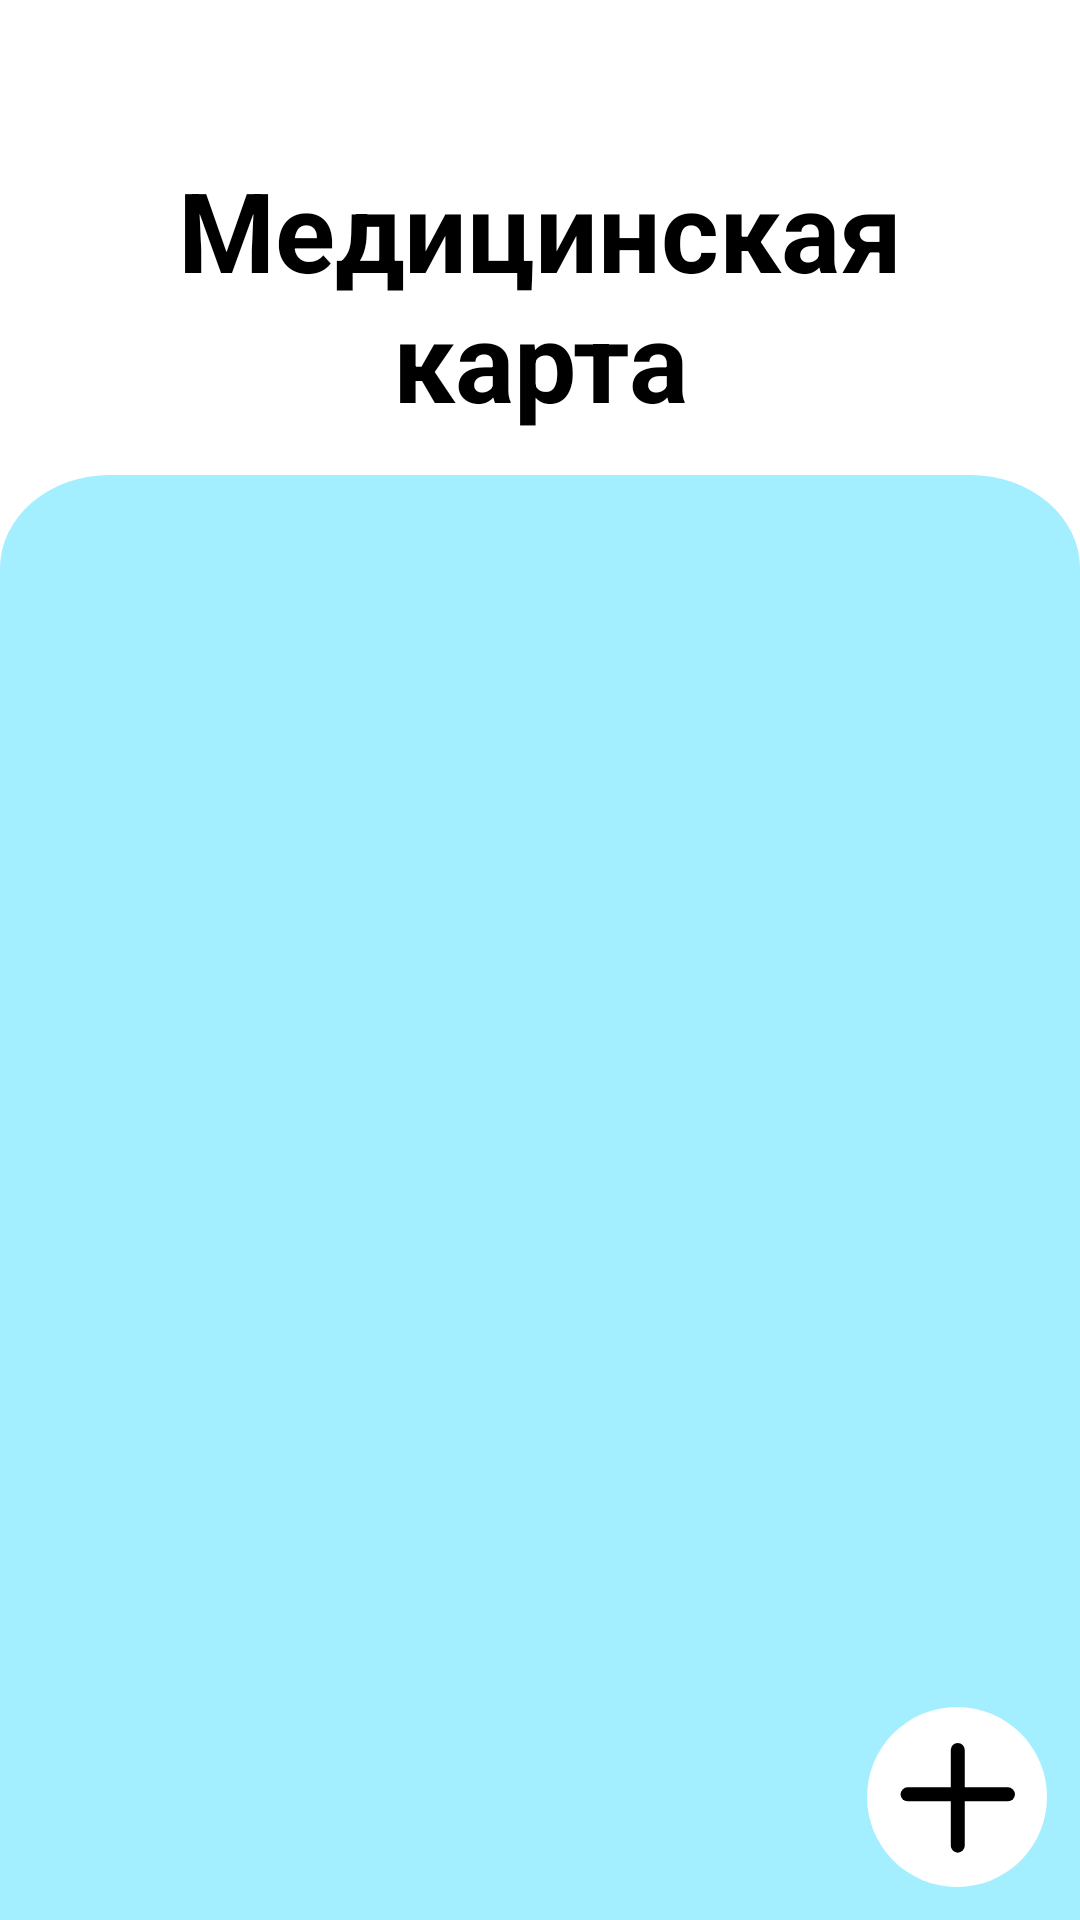

Named icons in this screenshot (1080w x 1920h) and their bounding boxes, [x1,y1,x2,y2]:
add day: [867,1707,1047,1887]
